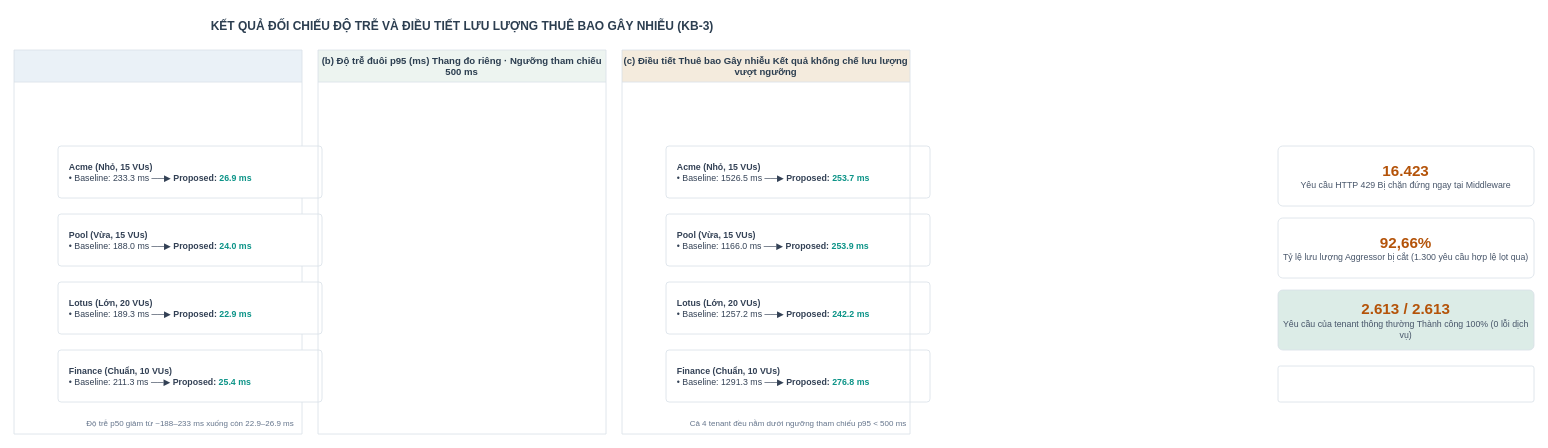
The diagram is 1548 pixels wide and 448 high, and some of its shapes have lost their labels. Each missing label, with the box of its shape:
(a) Độ trễ trung vị p50 (ms) So sánh 4 tenant thông thường: (13, 49, 302, 434)
Độ trễ p99 nằm trong khoảng ~1.99–2.45s ở phân vị cực đoan: (1277, 365, 1534, 402)
